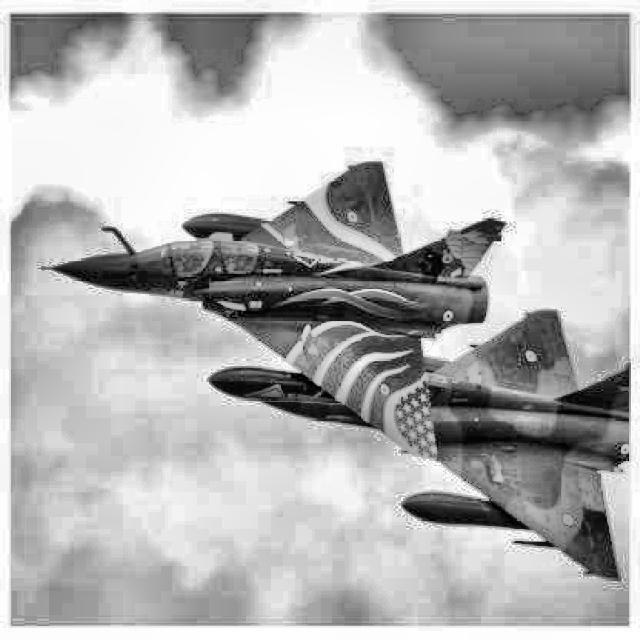Mirage2000: (39, 162, 507, 462), (259, 310, 630, 581)
